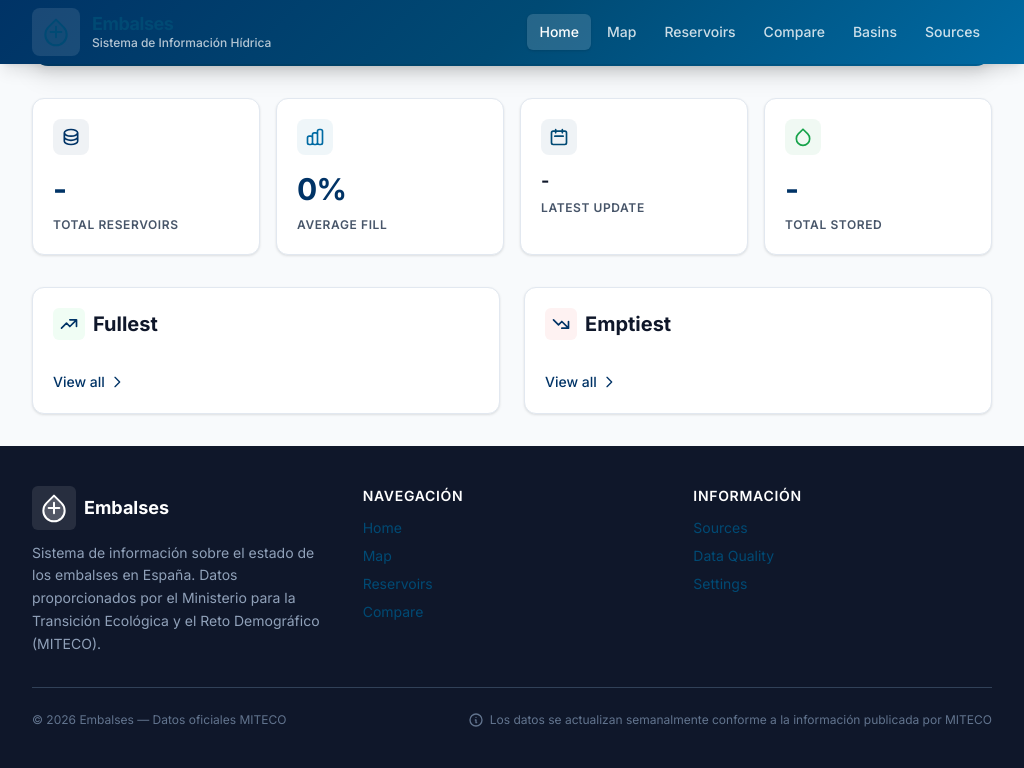
App › renders settings page with language switch
This screenshot has width=1024, height=768.
(page scrolled)
Click the link "Settings".
click(720, 583)  # box left=693, top=574, right=747, bottom=592
(page scrolled)
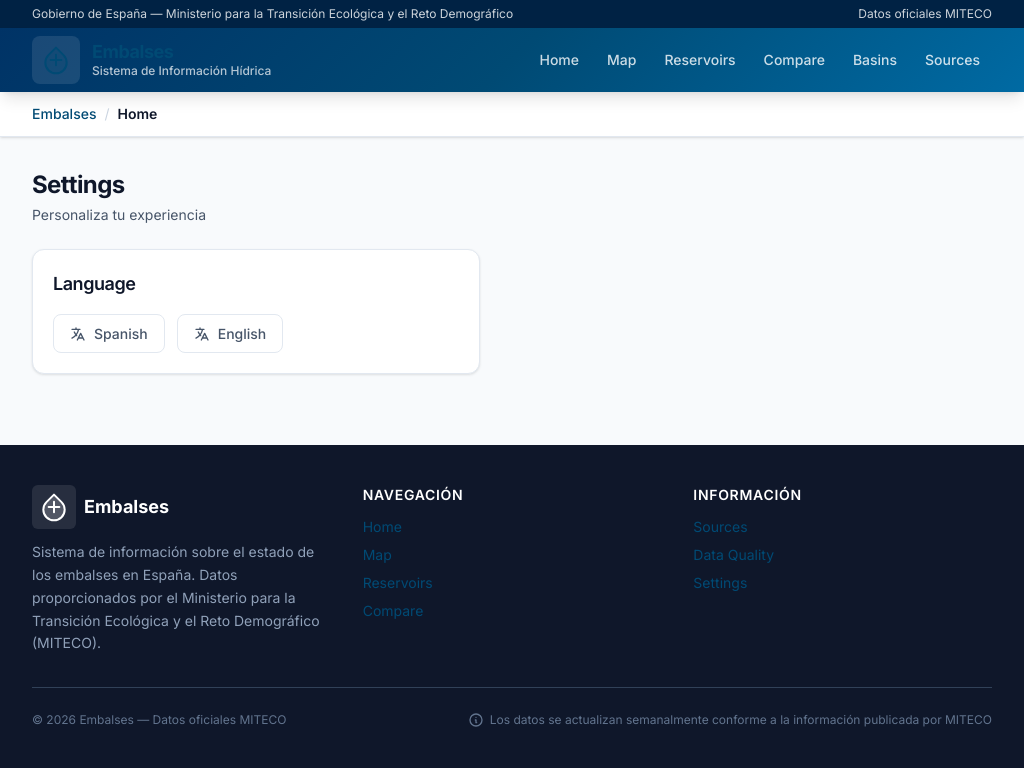
Expected: the heading "Language" is shown, left=53, top=273, right=136, bottom=294
